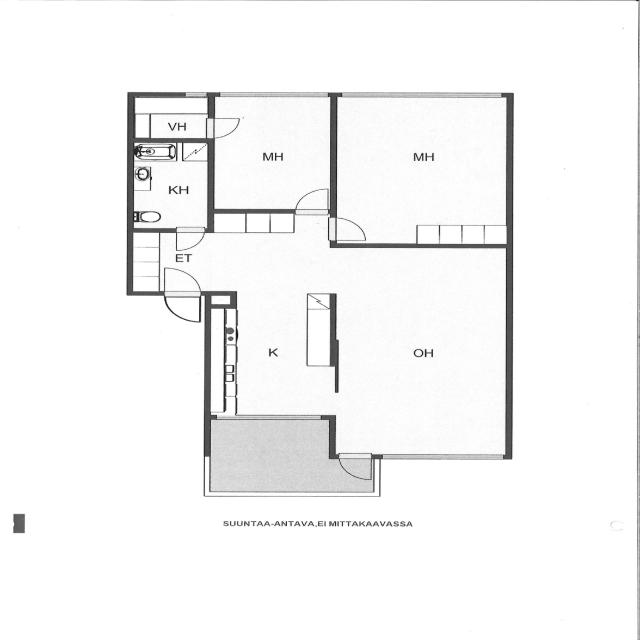door: (159, 266, 202, 315), (338, 452, 373, 482), (293, 186, 330, 214), (329, 216, 367, 243), (172, 227, 206, 253), (206, 116, 243, 139)
window: (336, 88, 507, 103), (378, 450, 501, 463), (211, 411, 328, 423), (217, 90, 328, 100), (199, 455, 214, 494), (180, 90, 210, 99)
zone: (335, 244, 511, 457), (333, 95, 510, 245), (205, 289, 331, 417), (210, 96, 333, 212), (129, 228, 333, 292), (129, 140, 209, 232), (128, 96, 210, 140), (160, 266, 201, 321)
